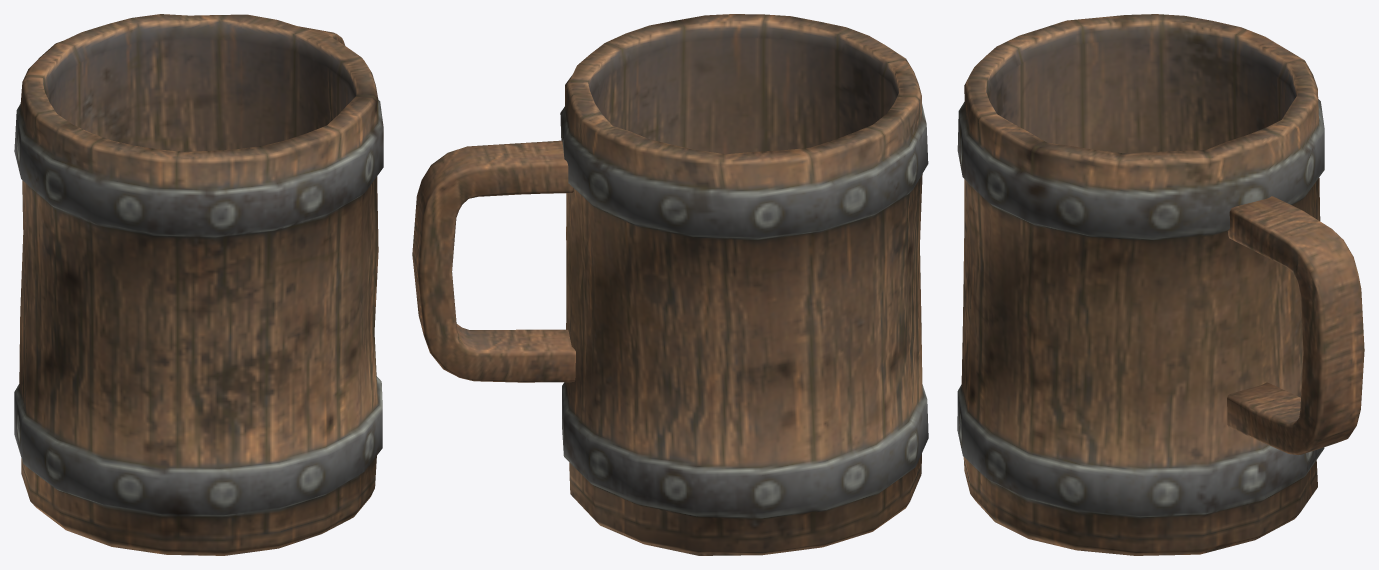
File: NPC_Beggar_Mug.FBX
3 views of the same model, side by side, from view 1: azimuth 30°, elevation 25°; view 2: azimuth 150°, elevation 25°; view 3: azimuth 270°, elevation 25° (orthographic).
Parts seen in each view (by area): view 1: NPC_Beggar_03_Mug; view 2: NPC_Beggar_03_Mug; view 3: NPC_Beggar_03_Mug.
Part boxes in pixels (x1=…): NPC_Beggar_03_Mug: x1=14, y1=14, x2=383, y2=555; NPC_Beggar_03_Mug: x1=412, y1=14, x2=928, y2=555; NPC_Beggar_03_Mug: x1=957, y1=14, x2=1364, y2=555.
Size of the model in its own units: 19.68 by 18.84 by 17.38.
